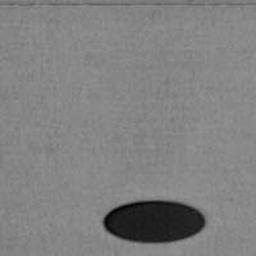Punching: (101, 201, 206, 244)
